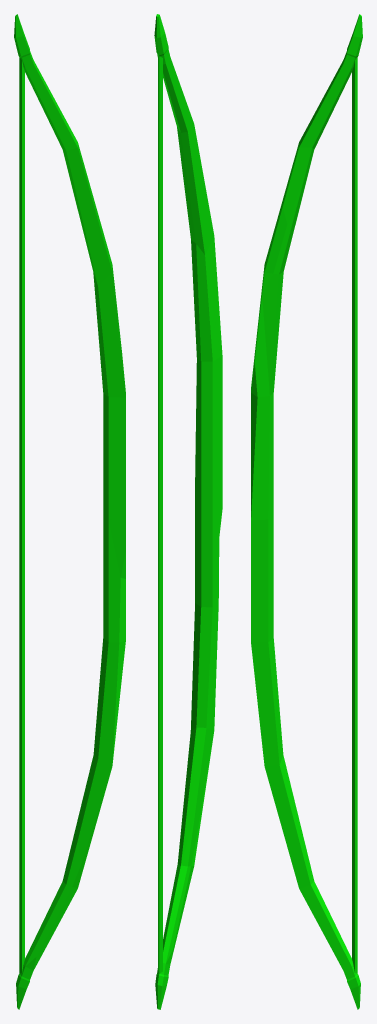
File: SM_Bow_Long_Fantasy.fbx
3 renders of one model, left to right at view 1: azimuth 90°, elevation 25°; view 2: azimuth 150°, elevation 25°; view 3: azimuth 270°, elevation 25°, orthographic.
Visible parts, largest first — view 1: bow-long-fantasy; view 2: bow-long-fantasy; view 3: bow-long-fantasy.
Boxes of the visible parts, left/top/right/bottom form: bow-long-fantasy: left=14, top=14, right=125, bottom=1009; bow-long-fantasy: left=154, top=14, right=222, bottom=1009; bow-long-fantasy: left=251, top=14, right=362, bottom=1009.
Size of the model in its own units: 0.04 by 1.93 by 0.1967.
